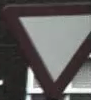Give way: (3, 4, 86, 92)
